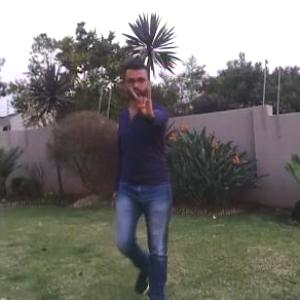takeoff-hand: (126, 79, 162, 122)
